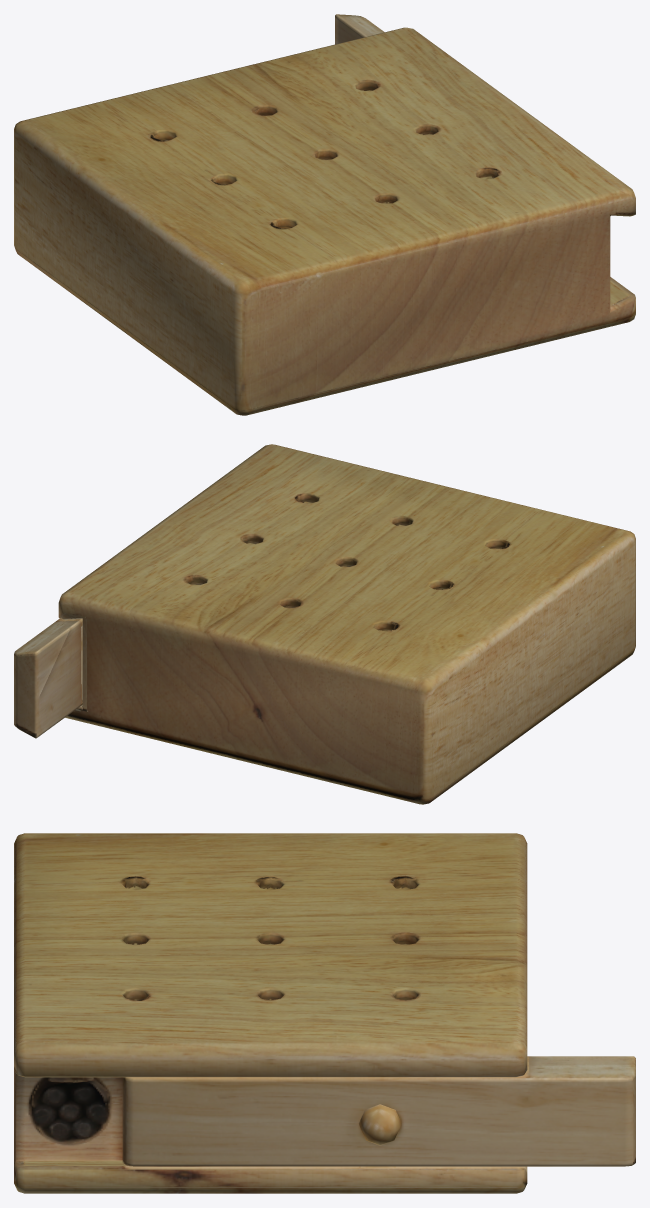
The model's file is 071_nine_hole_peg_test.dae.
3 views of the same model, one above another, from view 1: azimuth 30°, elevation 25°; view 2: azimuth 150°, elevation 25°; view 3: azimuth 270°, elevation 25° (orthographic). The views are drawn at different scales.
Visible parts, largest first — view 1: 071_nine_hole_peg_test; view 2: 071_nine_hole_peg_test; view 3: 071_nine_hole_peg_test.
Boxes of the visible parts, box(x1,y1,x2,y2) form: 071_nine_hole_peg_test: box(14, 14, 635, 415); 071_nine_hole_peg_test: box(14, 444, 635, 804); 071_nine_hole_peg_test: box(14, 833, 635, 1193).
Size of the model in its own units: 0.1325 by 0.1516 by 0.0404.
1 material, 1 textured.
